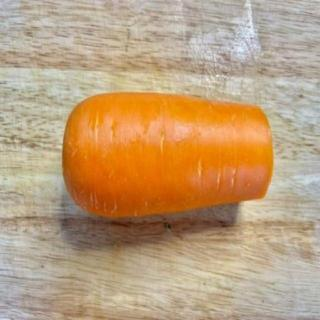carrot: (61, 90, 278, 222)
